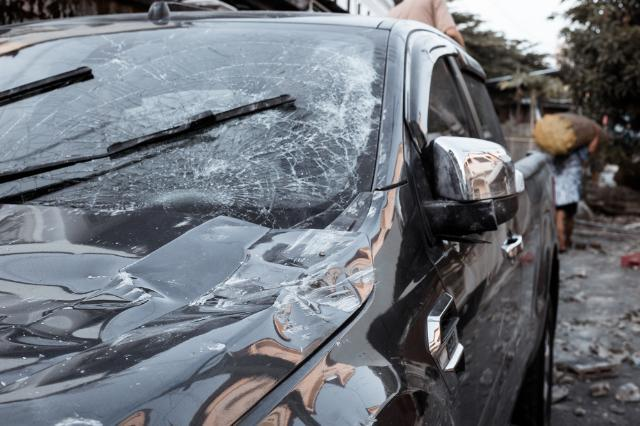dent: (0, 234, 370, 403)
glass shatter: (0, 22, 389, 232)
